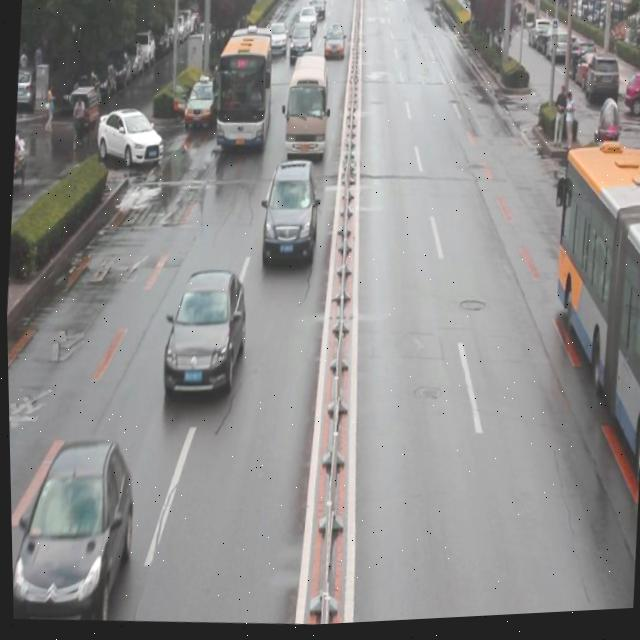car: (8, 439, 136, 626), (160, 272, 246, 405), (258, 160, 320, 274), (94, 104, 167, 174), (180, 87, 221, 145)
truck: (282, 54, 333, 166)
van: (531, 156, 640, 528), (211, 26, 274, 157)
